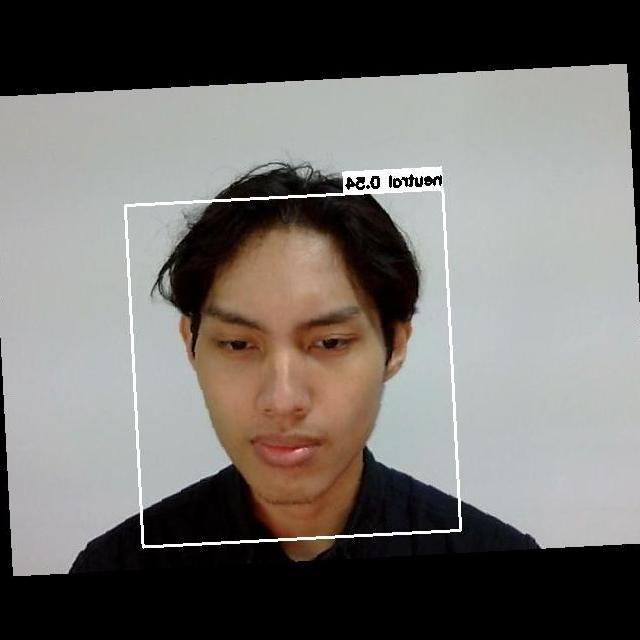Angry: (183, 282, 400, 481)
